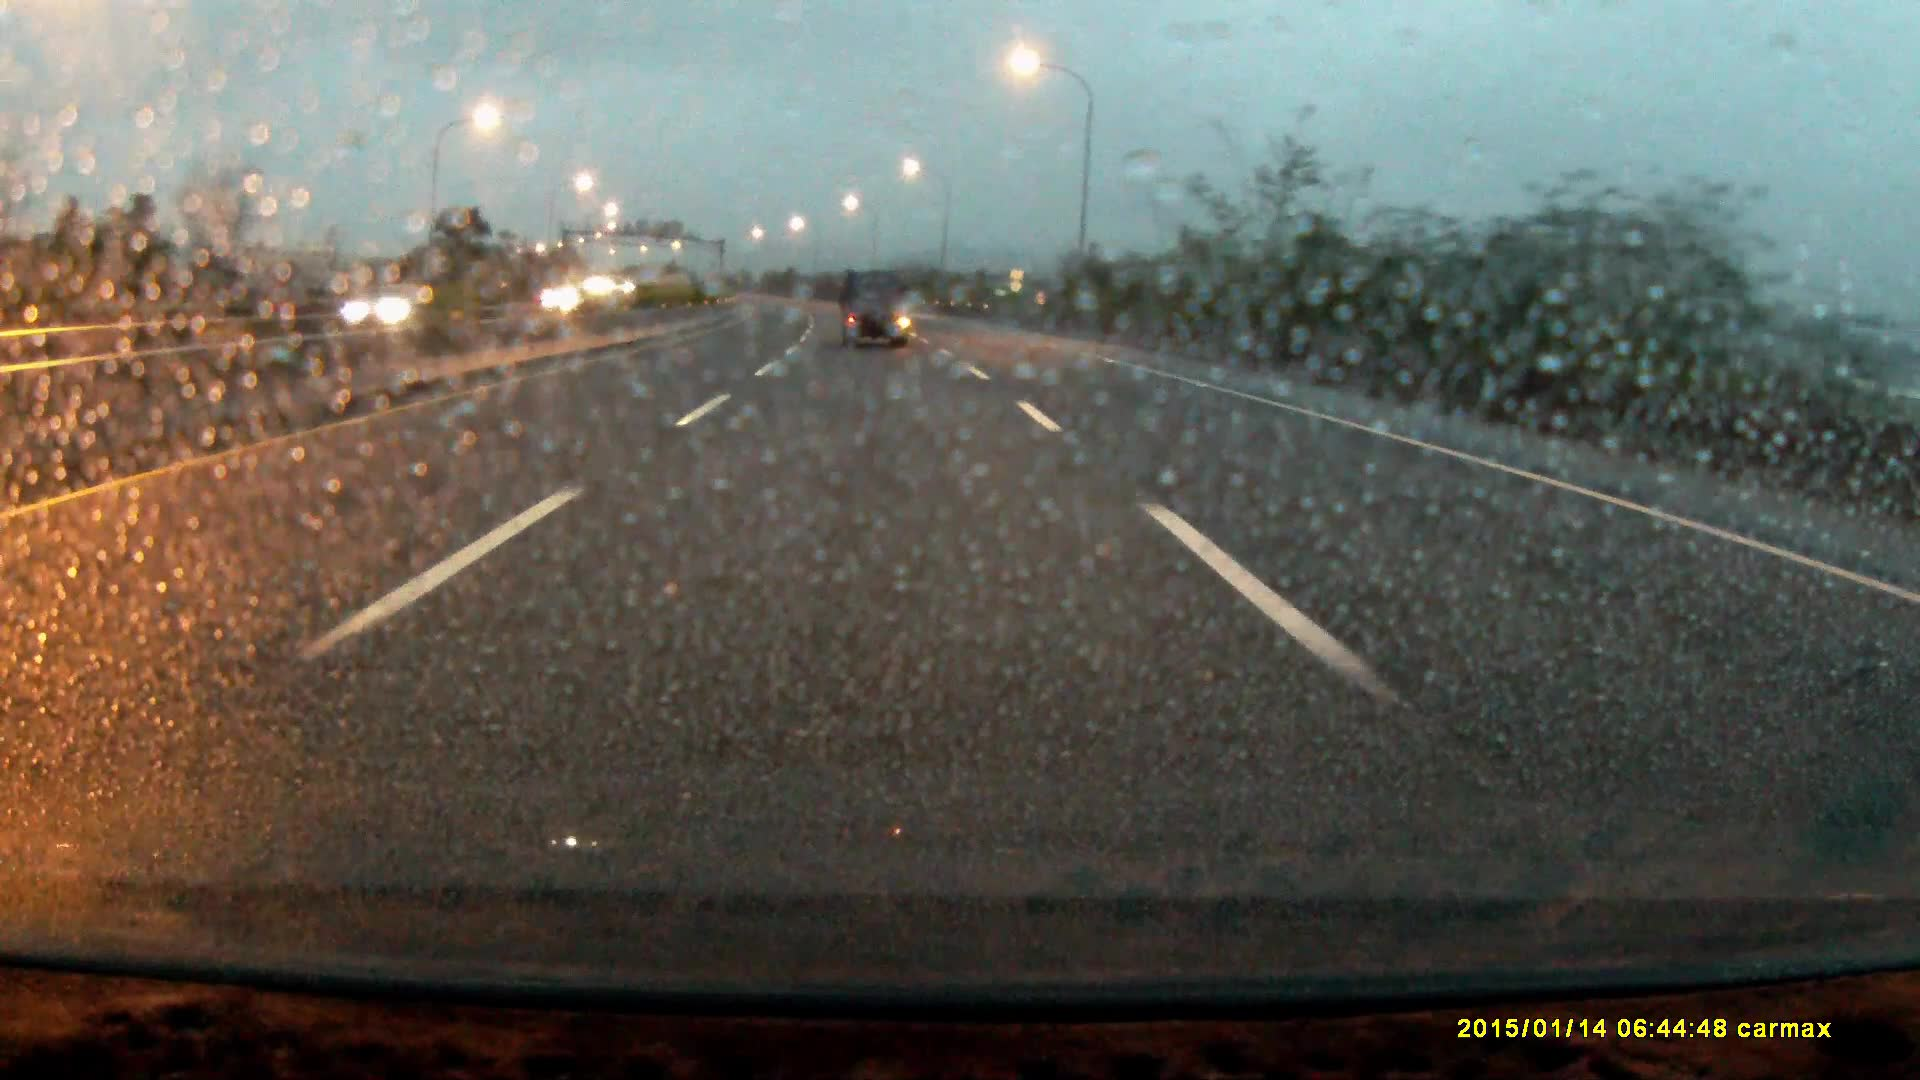vehicle: (324, 289, 439, 338), (839, 276, 911, 352)
